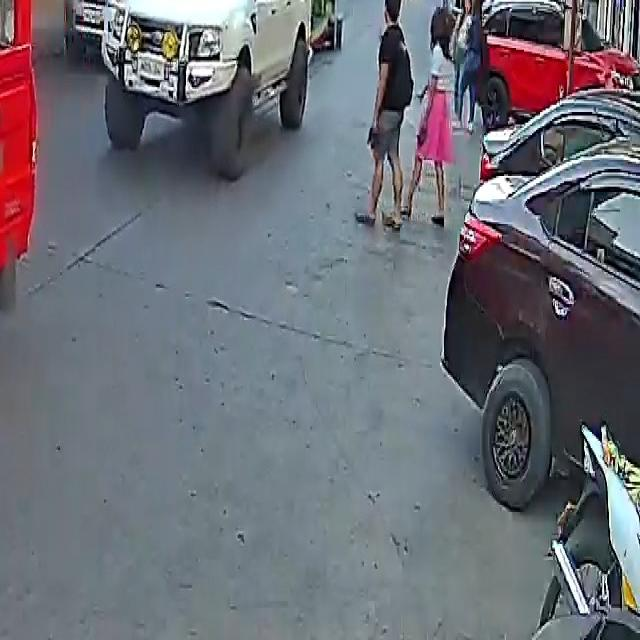car: (444, 93, 640, 522), (77, 0, 332, 167), (468, 0, 638, 126), (66, 0, 155, 60)
